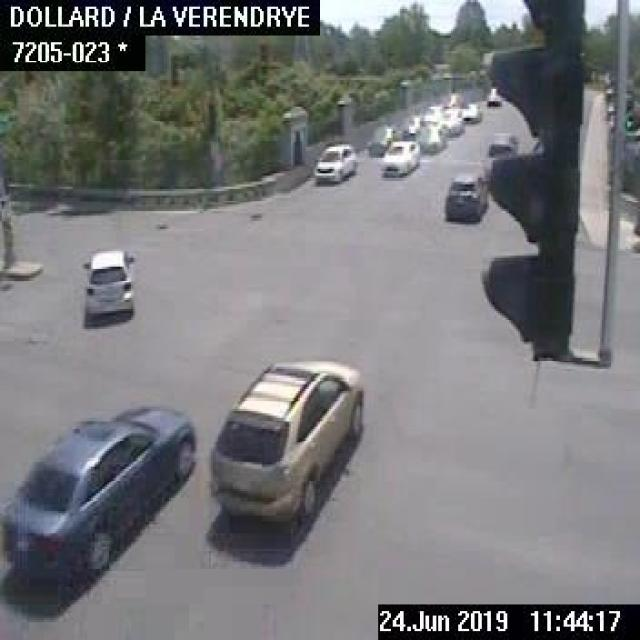vehicle: (0, 400, 198, 589), (207, 353, 364, 524), (80, 245, 136, 322), (442, 169, 489, 222), (311, 140, 358, 182), (379, 138, 419, 176), (484, 127, 522, 153), (417, 121, 446, 150), (437, 106, 464, 137), (366, 122, 391, 155), (461, 100, 483, 126), (486, 86, 502, 108)
